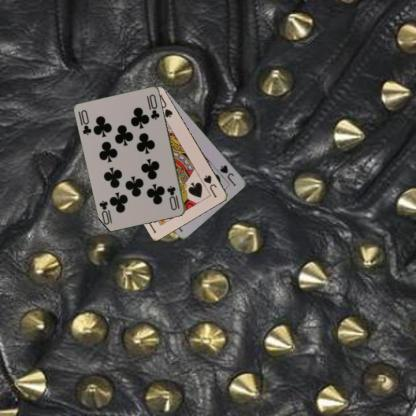10c: (76, 108, 94, 136), (165, 183, 181, 212)
Js: (218, 162, 238, 188), (201, 173, 219, 199)
